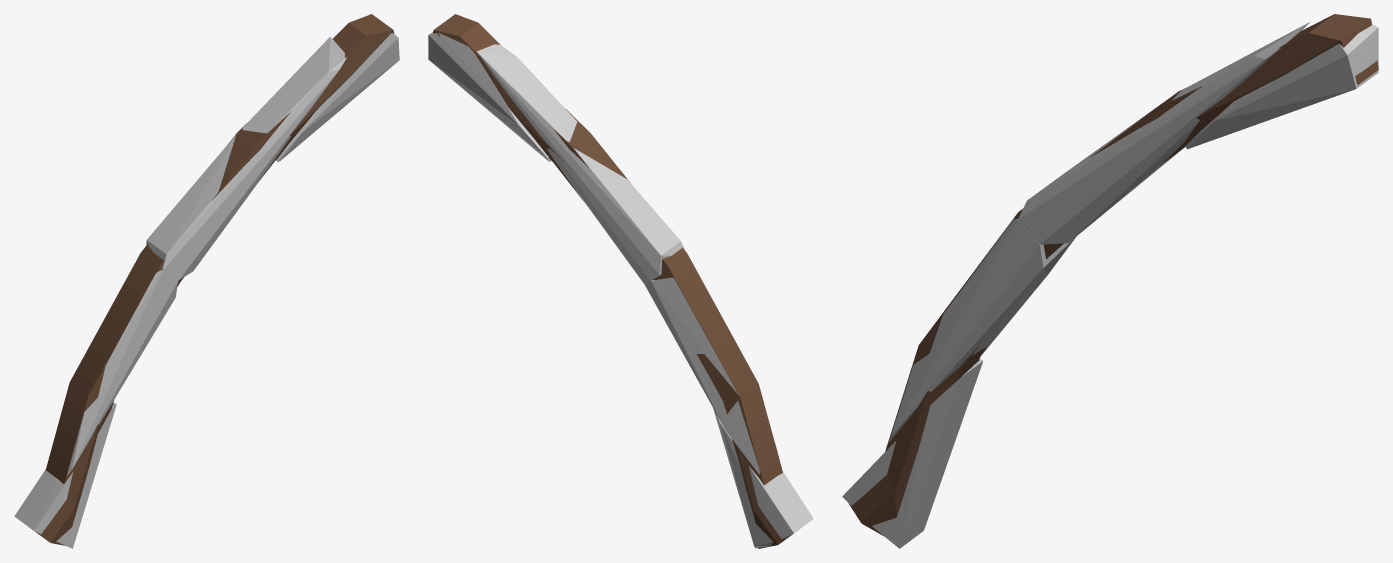
File: SM_Bld_Roof_End_Convex_02.fbx
3 views of the same model, side by side, from view 1: azimuth 30°, elevation 25°; view 2: azimuth 150°, elevation 25°; view 3: azimuth 330°, elevation 25° (orthographic). The views are drawn at different scales.
Parts seen in each view (by area): view 1: SM_Bld_Roof_End_Convex_02_ConvexHulls, SM_Bld_Roof_End_Convex_02; view 2: SM_Bld_Roof_End_Convex_02_ConvexHulls, SM_Bld_Roof_End_Convex_02; view 3: SM_Bld_Roof_End_Convex_02_ConvexHulls, SM_Bld_Roof_End_Convex_02.
Part boxes in pixels (left/top/right/bottom): SM_Bld_Roof_End_Convex_02_ConvexHulls: left=14, top=32, right=399, bottom=548; SM_Bld_Roof_End_Convex_02: left=35, top=14, right=394, bottom=545; SM_Bld_Roof_End_Convex_02_ConvexHulls: left=428, top=32, right=813, bottom=548; SM_Bld_Roof_End_Convex_02: left=433, top=14, right=792, bottom=548; SM_Bld_Roof_End_Convex_02_ConvexHulls: left=842, top=22, right=1378, bottom=548; SM_Bld_Roof_End_Convex_02: left=848, top=14, right=1378, bottom=535.
Bounding box in the file's own units: 280 × 29.74 × 323.
Materials: 2 (1 with a texture image).
